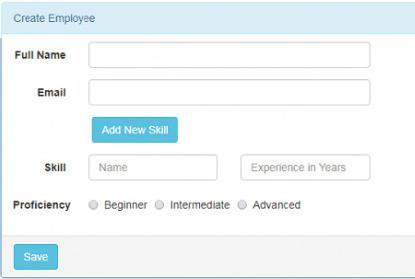button: (91, 116, 179, 144), (13, 243, 60, 272), (235, 198, 248, 210), (88, 198, 99, 211), (155, 198, 166, 211)
field: (86, 40, 371, 69), (87, 78, 371, 106), (86, 152, 220, 182), (239, 153, 372, 182)
field_with_label: (15, 39, 373, 70), (38, 77, 374, 107), (45, 150, 222, 183)
radio_with_label: (153, 196, 229, 213), (232, 196, 300, 213), (85, 195, 147, 212)
